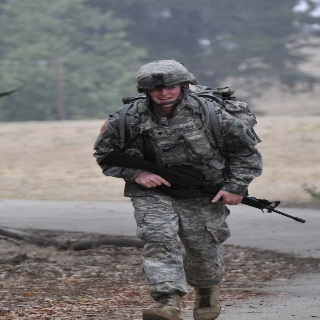rifle: (99, 148, 308, 231)
